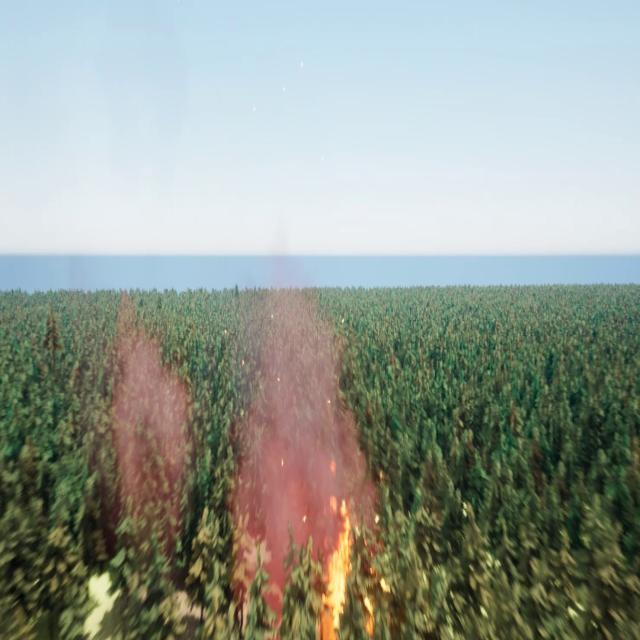fire: (319, 493, 378, 639)
smoke: (229, 269, 384, 612), (87, 284, 196, 560)
